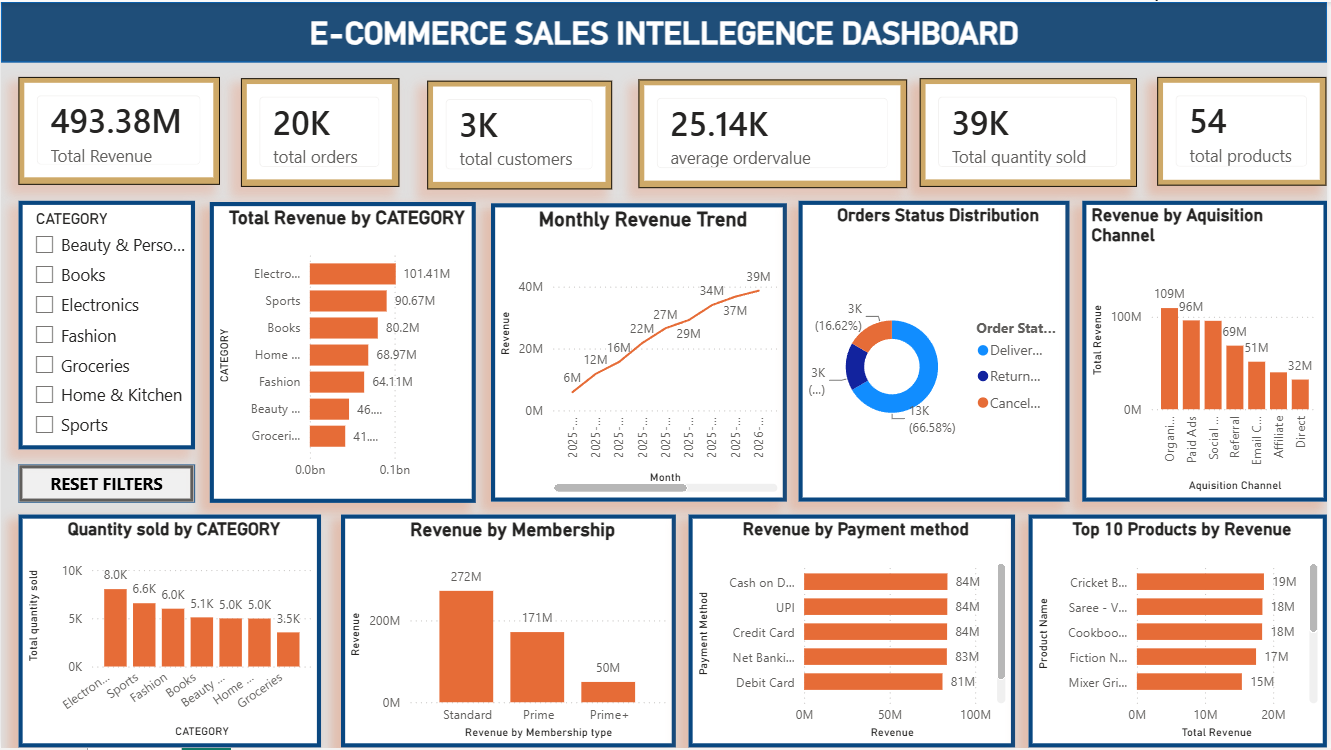

The dashboard page shown, as its layout file describes it:
{"tool":"powerbi","page":{"name":"Page 1","canvas":[1280,720],"ordinal":0},"visuals":[{"type":"cardVisual","title":"Total Revenue ","fields":{"Data":["table - orders cleaned.Total Revenue"]},"box":[17.4,72,201.1,108],"z":0},{"type":"cardVisual","fields":{"Data":["table - orders cleaned.total orders"]},"box":[231.6,73.6,152.6,104.6],"z":1000},{"type":"cardVisual","fields":{"Data":["cleaned customers.total customers"]},"box":[411.4,76,178.8,104.6],"z":2000},{"type":"cardVisual","fields":{"Data":["table - orders cleaned.average ordervalue"]},"box":[603.3,74.5,259.4,104.6],"z":3000},{"type":"cardVisual","fields":{"Data":["table - orders cleaned.total quantityb sold"]},"box":[873.9,75.7,209.3,104.6],"z":4000},{"type":"cardVisual","fields":{"Data":["cleaned products.total products"]},"box":[1106,73.2,163.3,105],"z":5000},{"type":"clusteredBarChart","fields":{"Category":["cleaned products.CATEGORY"],"Y":["table - orders cleaned.Total Revenue"]},"box":[199.8,194.9,256.7,290],"z":6000},{"type":"lineChart","title":"Monthly Revenue Trend","fields":{"Category":["date.year month"],"Y":["table - orders cleaned.Total Revenue"]},"box":[470.4,194.9,285.6,287.7],"z":7000},{"type":"clusteredColumnChart","title":"Quantity Sold By Category","fields":{"Category":["cleaned products.CATEGORY"],"Y":["table - orders cleaned.total quantityb sold"]},"box":[17.4,494.8,292.1,224.5],"z":8000},{"type":"clusteredColumnChart","title":"Revenue by Membership","fields":{"Category":["cleaned customers.MEMBERSHIP_TIER"],"Y":["table - orders cleaned.Total Revenue"]},"box":[317.8,494,323.3,225],"z":9000},{"type":"donutChart","title":"Orders Status Distribution ","fields":{"Category":["table - orders cleaned.ORDER_STATUS"],"Y":["table - orders cleaned.total orders"]},"box":[764.6,194.9,261.7,290],"z":10000},{"type":"clusteredBarChart","title":"Revenue By Payment Method","fields":{"Category":["table - orders cleaned.PAYMENT_METHOD"],"Y":["table - orders cleaned.Total Revenue"]},"box":[652.9,494,315,225],"z":11000},{"type":"columnChart","title":"Revenue by Acquisition Channel ","fields":{"Category":["cleaned customers.ACQUISITION_CHANNEL"],"Y":["table - orders cleaned.Total Revenue"]},"box":[1032.8,193.6,236.7,290],"z":12000},{"type":"clusteredBarChart","title":"Top 10 Products by Revenue","fields":{"Y":["table - orders cleaned.Total Revenue"],"Category":["cleaned products.PRODUCT_NAME"]},"box":[981.9,494,288.3,225],"z":13000},{"type":"slicer","fields":{"Values":["cleaned products.CATEGORY"]},"box":[17.4,191.8,170,239.8],"z":14000},{"type":"actionButton","box":[17.4,446.9,170,37.1],"z":15000},{"type":"shape","box":[0,0,1280,58.3],"z":16000},{"type":"textbox","title":"E-COMMERCE SALES INTELLEGENCE DASHBOARD","box":[0,11.7,1280,46.7],"z":17000}]}

Visuals, with their boxes in screenshot pixels (x1, y1, x2, y2), scaled from the page's 1280x720 canvas onto the 1331x750 screenshot:
"Total Revenue " cardVisual: rect(18, 75, 227, 188)
cardVisual - table - orders cleaned.total orders: rect(241, 77, 400, 186)
cardVisual - cleaned customers.total customers: rect(428, 79, 614, 188)
cardVisual - table - orders cleaned.average ordervalue: rect(627, 78, 897, 187)
cardVisual - table - orders cleaned.total quantityb sold: rect(909, 79, 1126, 188)
cardVisual - cleaned products.total products: rect(1150, 76, 1320, 186)
clusteredBarChart - cleaned products.CATEGORY x table - orders cleaned.Total Revenue: rect(208, 203, 475, 505)
"Monthly Revenue Trend" lineChart: rect(489, 203, 786, 503)
"Quantity Sold By Category" clusteredColumnChart: rect(18, 515, 322, 749)
"Revenue by Membership" clusteredColumnChart: rect(330, 515, 667, 749)
"Orders Status Distribution " donutChart: rect(795, 203, 1067, 505)
"Revenue By Payment Method" clusteredBarChart: rect(679, 515, 1006, 749)
"Revenue by Acquisition Channel " columnChart: rect(1074, 202, 1320, 504)
"Top 10 Products by Revenue" clusteredBarChart: rect(1021, 515, 1321, 749)
slicer - cleaned products.CATEGORY: rect(18, 200, 195, 450)
actionButton: rect(18, 466, 195, 504)
shape: rect(0, 0, 1330, 61)
"E-COMMERCE SALES INTELLEGENCE DASHBOARD" textbox: rect(0, 12, 1330, 61)
